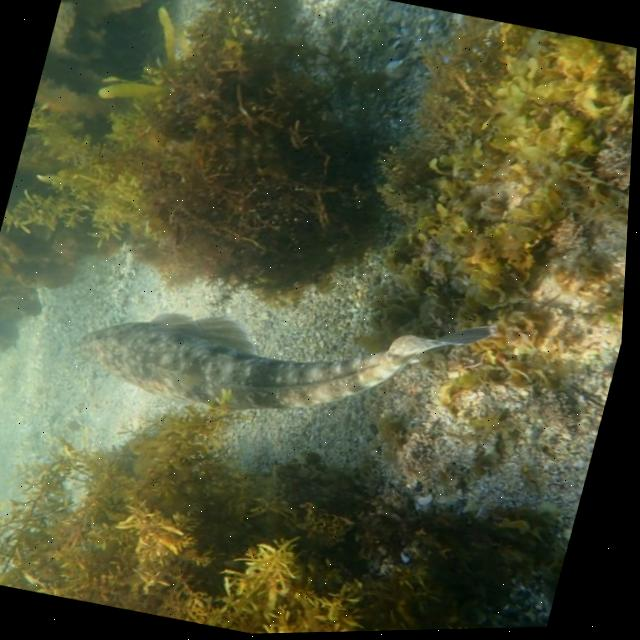Flathead: (59, 231, 514, 479)
